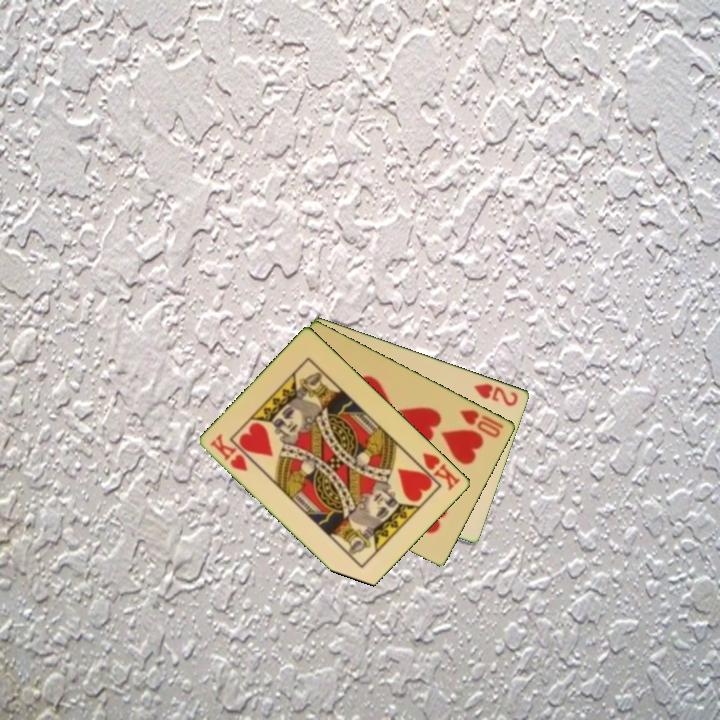10h: (457, 406, 507, 441)
2h: (470, 380, 521, 409)
Kh: (411, 449, 463, 493), (207, 430, 251, 474)
